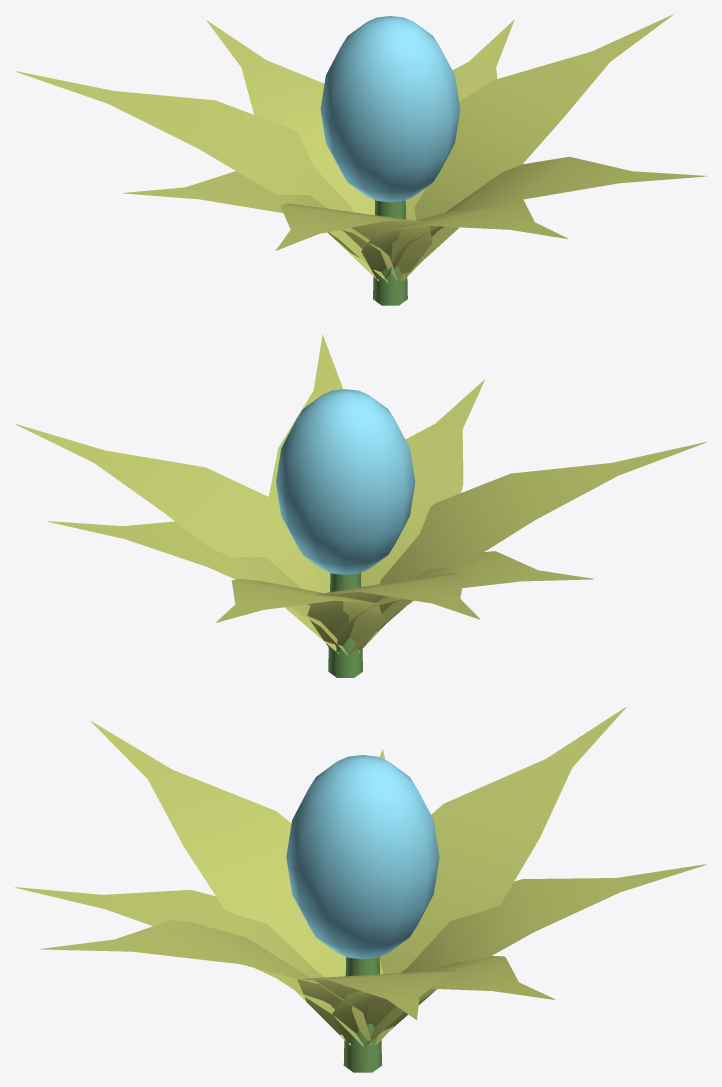
The model's file is plant_oxygen.fbx.
3 renders of one model, top to bottom at view 1: azimuth 30°, elevation 25°; view 2: azimuth 150°, elevation 25°; view 3: azimuth 270°, elevation 25°, orthographic. The views are drawn at different scales.
Visible parts, largest first — view 1: plant_oxygen_LOD0; view 2: plant_oxygen_LOD0; view 3: plant_oxygen_LOD0.
Part boxes in pixels (bbox=[...]): plant_oxygen_LOD0: bbox=[15, 14, 707, 305]; plant_oxygen_LOD0: bbox=[15, 335, 706, 677]; plant_oxygen_LOD0: bbox=[15, 707, 706, 1072].
Bounding box in the file's own units: 1.87 × 0.88 × 1.81.
